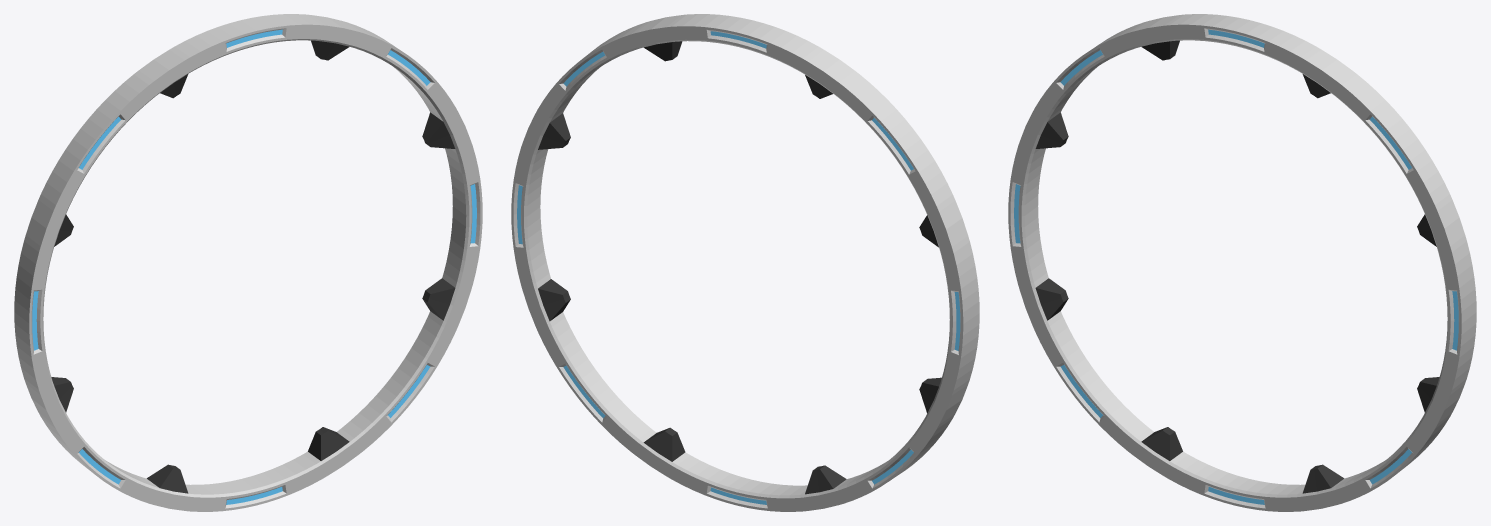
Rendered from ring.glb.
3 renders of one model, left to right at view 1: azimuth 30°, elevation 25°; view 2: azimuth 150°, elevation 25°; view 3: azimuth 330°, elevation 25°, orthographic.
Parts seen in each view (by area): view 1: ring_white, ring_grey, ring_blue; view 2: ring_white, ring_grey, ring_blue; view 3: ring_white, ring_grey, ring_blue.
Boxes of the visible parts, x1,y1,x2,y2 form: ring_white: (14, 14, 482, 511); ring_grey: (51, 40, 455, 493); ring_blue: (32, 29, 476, 504); ring_white: (511, 14, 979, 511); ring_grey: (538, 41, 941, 494); ring_blue: (517, 31, 960, 504); ring_white: (1008, 14, 1476, 511); ring_grey: (1035, 40, 1439, 493); ring_blue: (1014, 29, 1458, 504).
Size of the model in its own units: 10.77 by 10.77 by 0.6462.
